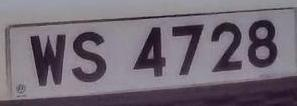2: (206, 13, 246, 79)
4: (125, 20, 173, 86)
7: (168, 16, 207, 83)
8: (245, 10, 284, 75)
S: (68, 25, 113, 89)
W: (26, 25, 68, 94)
